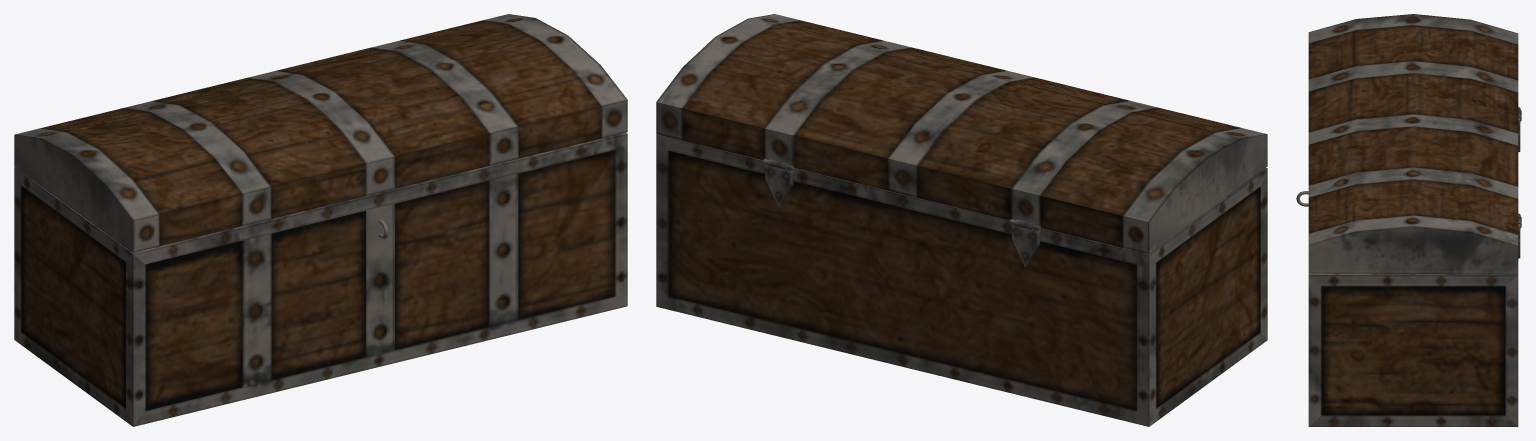
File: ruong.fbx
The picture shows the model from 3 angles, left to right: view 1: azimuth 30°, elevation 25°; view 2: azimuth 150°, elevation 25°; view 3: azimuth 270°, elevation 25°; orthographic projection. The views are drawn at different scales.
Visible parts, largest first — view 1: Chest_Sketchfab.007, Chest_Sketchfab; view 2: Chest_Sketchfab.007, Chest_Sketchfab; view 3: Chest_Sketchfab, Chest_Sketchfab.007.
Boxes of the visible parts, bbox=[...] form: Chest_Sketchfab.007: bbox=[14, 132, 627, 426]; Chest_Sketchfab: bbox=[14, 14, 627, 252]; Chest_Sketchfab.007: bbox=[656, 134, 1267, 426]; Chest_Sketchfab: bbox=[656, 14, 1267, 254]; Chest_Sketchfab: bbox=[1308, 14, 1518, 274]; Chest_Sketchfab.007: bbox=[1296, 107, 1521, 426].
Bounding box in the file's own units: 67.5 × 29.65 × 30.23.
